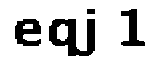1: (116, 6, 149, 50)
e: (12, 15, 45, 51)
j: (78, 5, 105, 59)
q: (46, 17, 79, 57)
